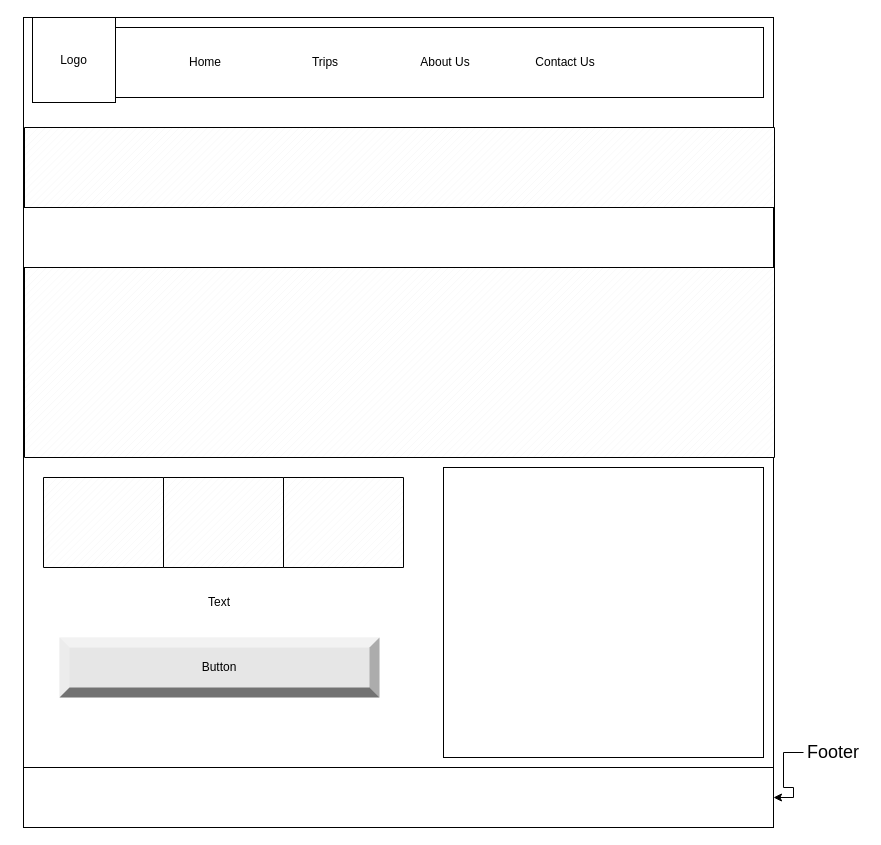
Image size: 881x845. Some labels were removed from this diagram. The centre of each missing label's shape, as x and y in pixels:
"<Form> Subscription Form" goes at [603,612].
"Life White Water Rafting" goes at [398,237].
